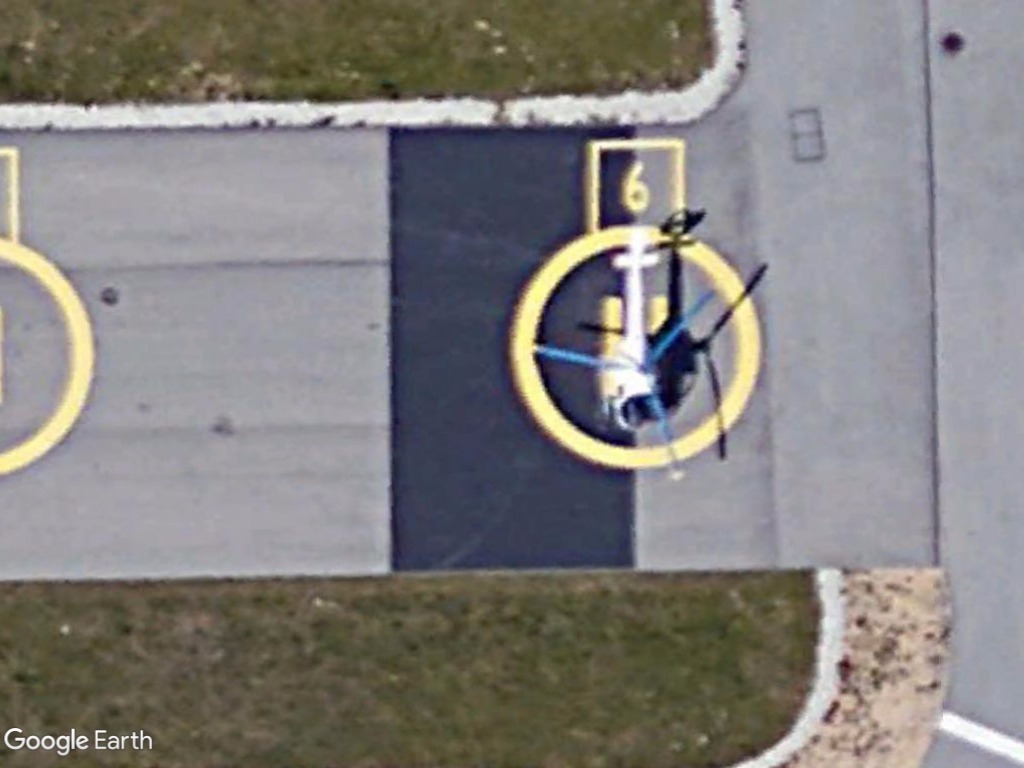helicopter: (538, 213, 719, 487)
